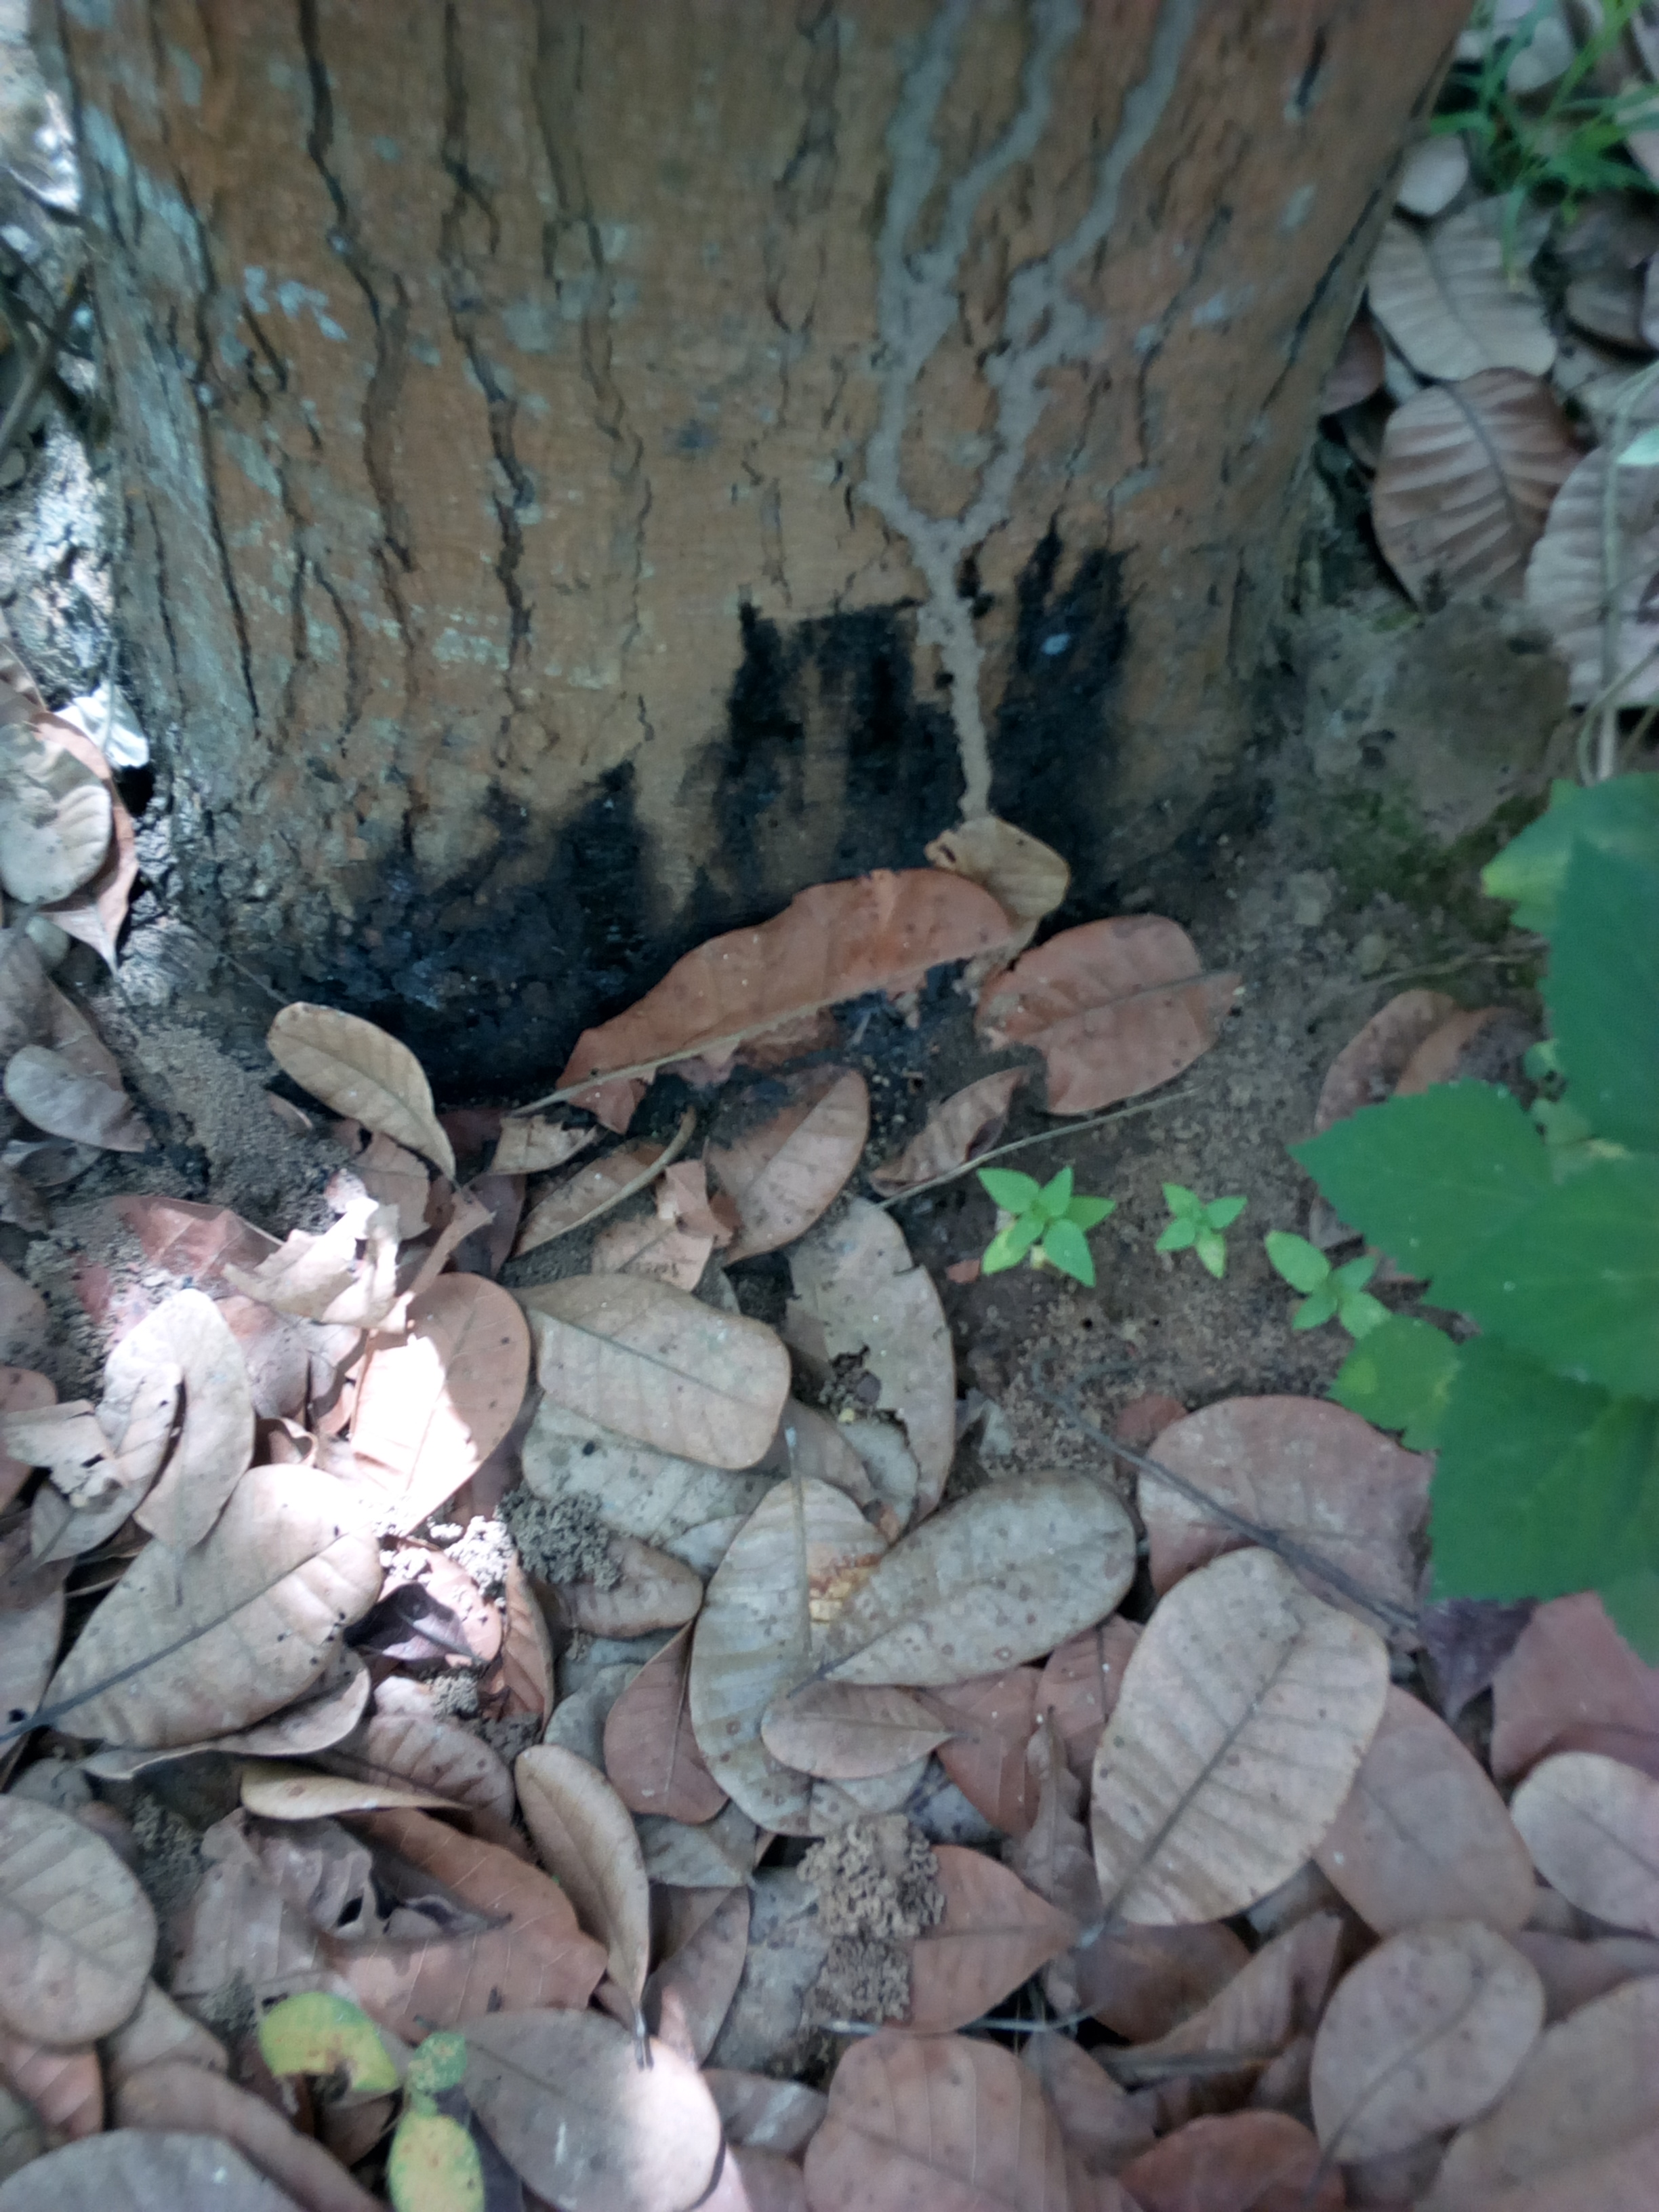Termites: (145, 0, 1351, 866)
